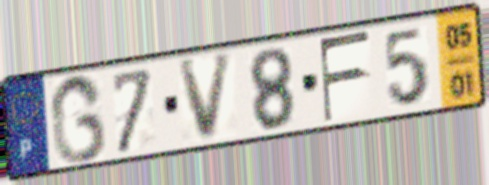5: (385, 23, 434, 110)
7: (111, 65, 154, 156)
8: (244, 44, 296, 133)
F: (316, 27, 374, 126)
G: (48, 71, 109, 166)
V: (175, 49, 236, 146)
